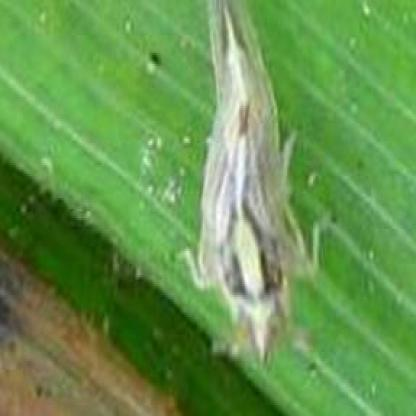brown-planthopper: (186, 2, 298, 367)
